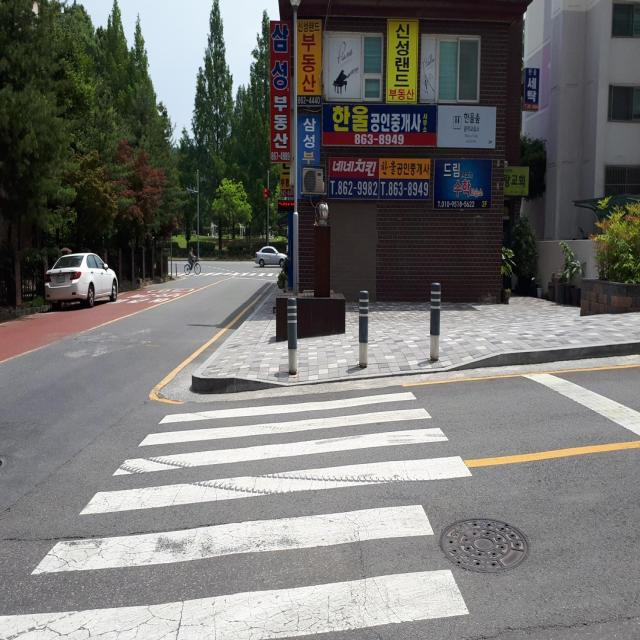횡단보도: (0, 388, 473, 640)
